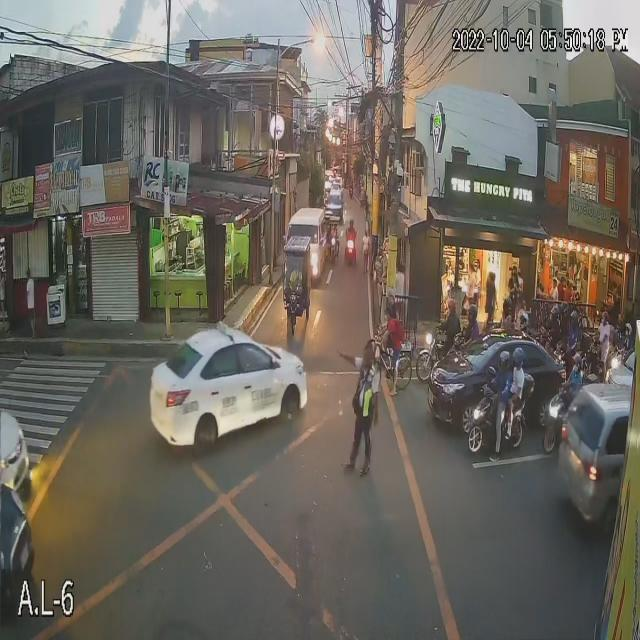helmet: (495, 351, 512, 373), (570, 351, 584, 375), (513, 348, 527, 371), (566, 310, 581, 329), (517, 309, 530, 329), (501, 297, 513, 318), (549, 305, 559, 328), (446, 299, 460, 315), (466, 304, 477, 323), (558, 299, 569, 315), (600, 310, 612, 323), (622, 323, 631, 335)
motorcycle: (463, 386, 532, 459), (542, 385, 581, 456), (413, 326, 458, 383), (339, 232, 360, 271)
rider: (488, 353, 512, 408), (559, 354, 586, 399), (508, 349, 531, 400), (438, 299, 460, 344), (594, 309, 611, 365), (498, 291, 516, 338), (462, 301, 480, 346), (622, 318, 637, 361), (547, 306, 562, 346), (557, 297, 572, 336), (568, 309, 582, 344), (517, 307, 532, 339), (347, 218, 357, 240)
